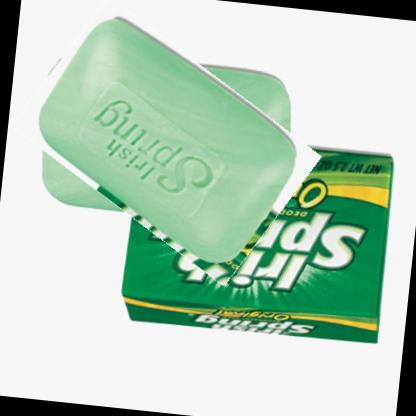soap: (11, 16, 321, 264)
